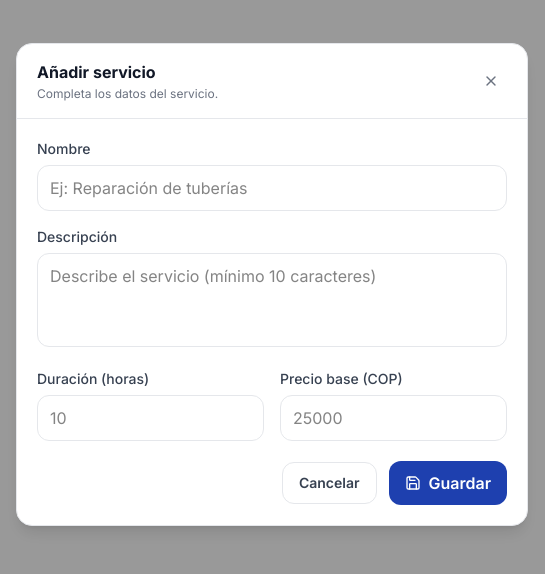
Test: ServiceModal › validaciones › error si el nombre tiene menos de 3 caracteres
Type "AB" into the field with placeholder "Ej: Reparación de tuberías" at (272, 188), box x1=37 y1=164 x2=507 y2=210
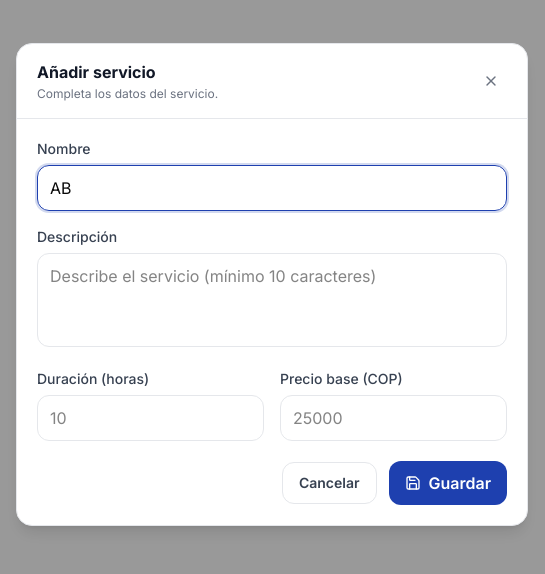
Type "Una descripción larga." into the text box with placeholder "Describe el servicio (mínimo 10 caracteres)" at (272, 300), box x1=37 y1=252 x2=507 y2=346
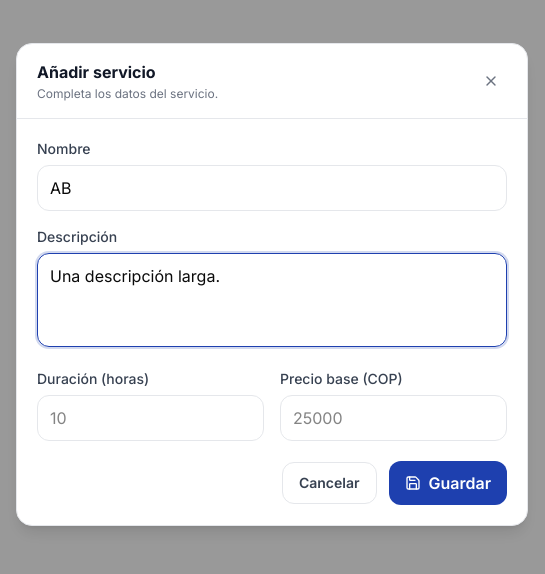
Type "5" into the number field with placeholder "10" at (150, 418), box x1=37 y1=394 x2=264 y2=440
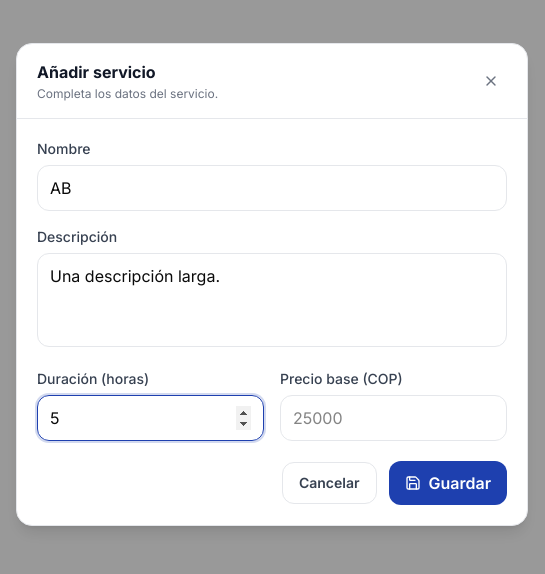
Type "20000" into the number field with placeholder "25000" at (394, 418), box x1=280 y1=394 x2=507 y2=440
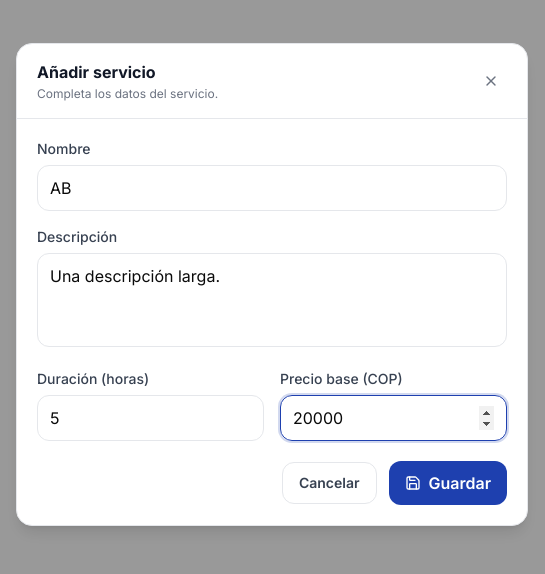
Click the button "Guardar" at (448, 482), box x1=388 y1=460 x2=507 y2=504
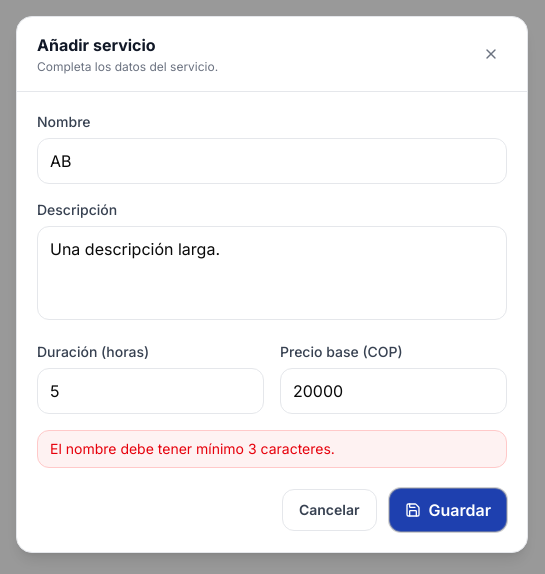
Check: the message reads "El nombre debe tener mínimo 3 caracteres.", box x1=50 y1=440 x2=335 y2=456
